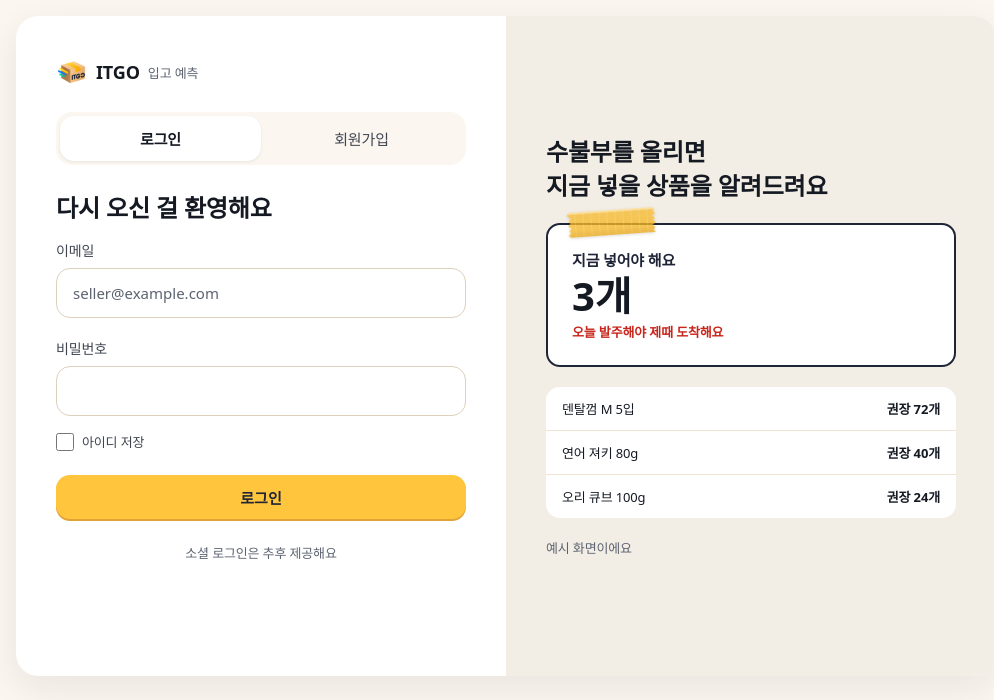
Test: 로그인 상태 › 틀린 비밀번호로는 로그인하지 않고 안내 문구를 보여준다
Type "seller@a.com" into the field labelled "이메일".
click(261, 293); type("seller@a.com")  # box [56,268,466,318]
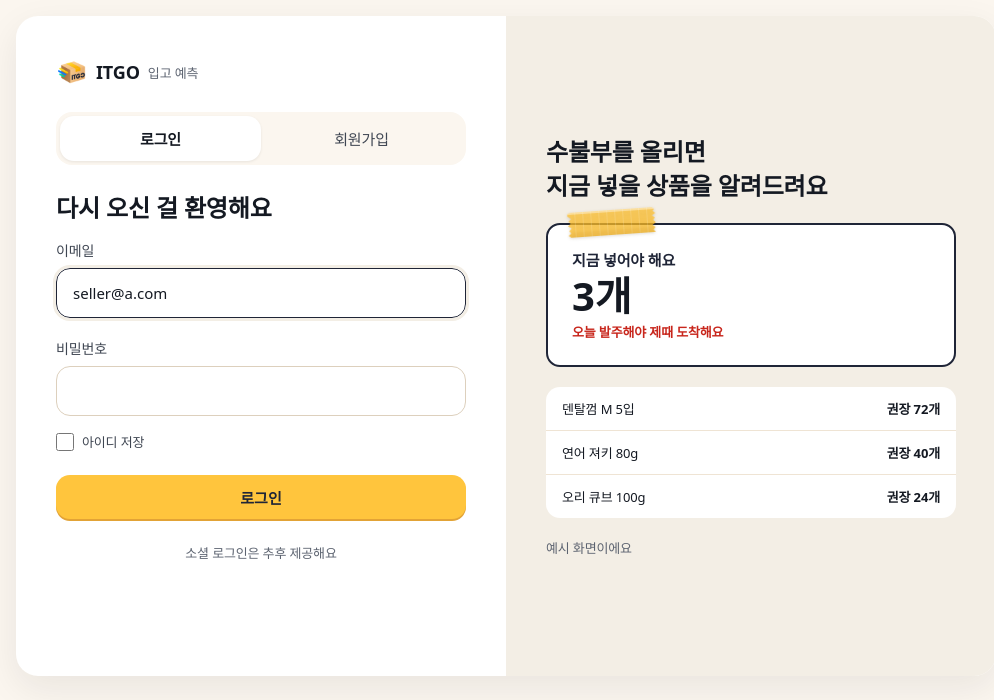
Type "wrong1234" into the password field labelled "비밀번호".
click(261, 391); type("wrong1234")  # box [56,366,466,416]
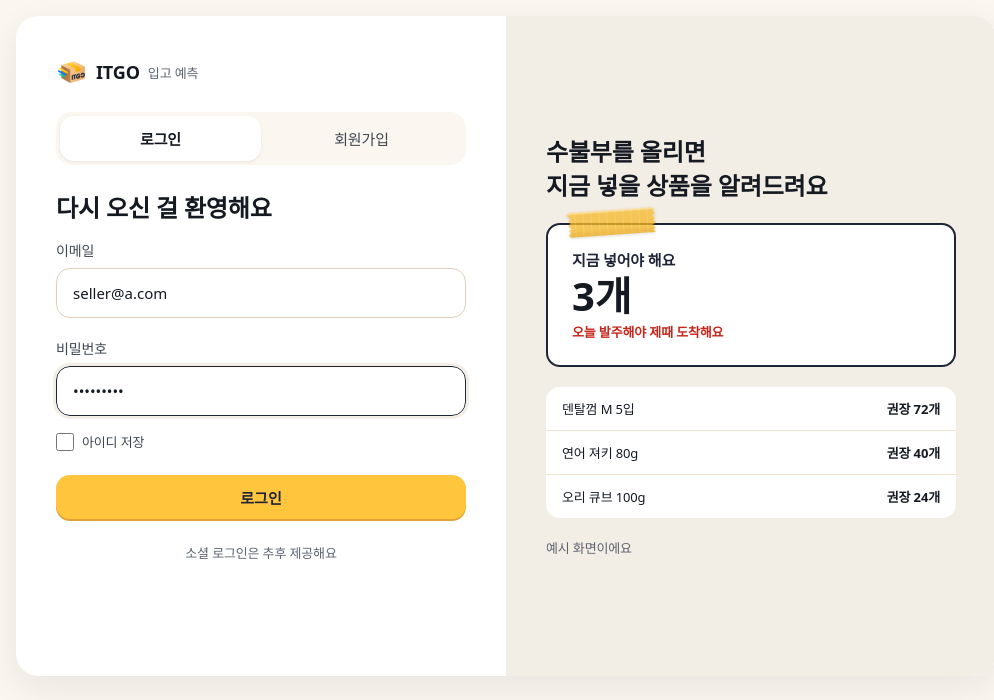
Click the button "로그인".
click(261, 497)  # box [56,475,466,519]
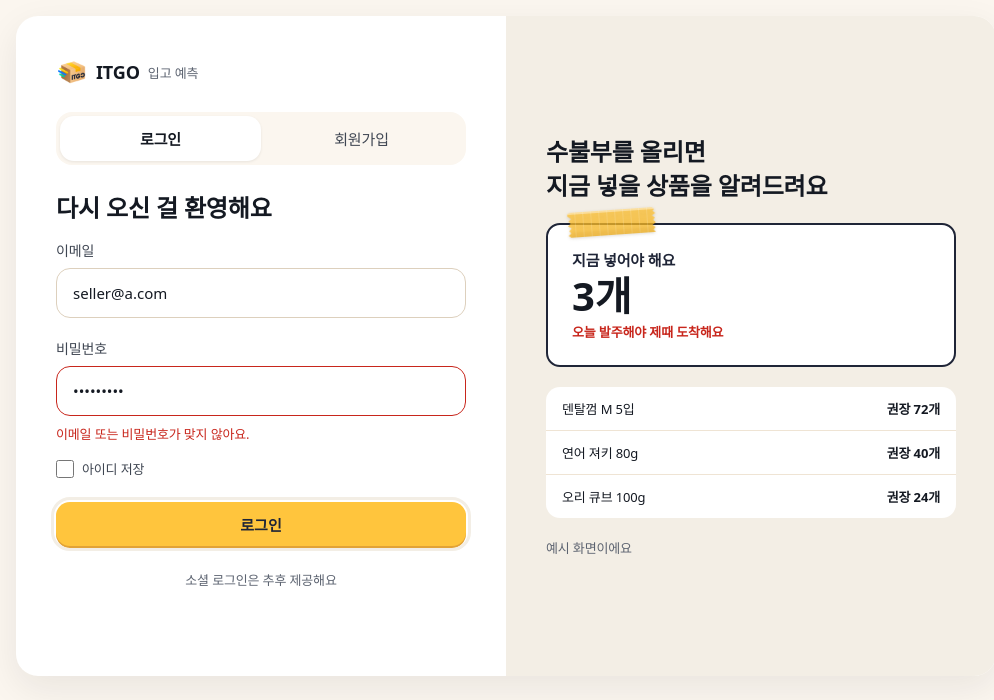
Expected: the message reads "이메일 또는 비밀번호가 맞지 않아요.", [56,425,249,443]
